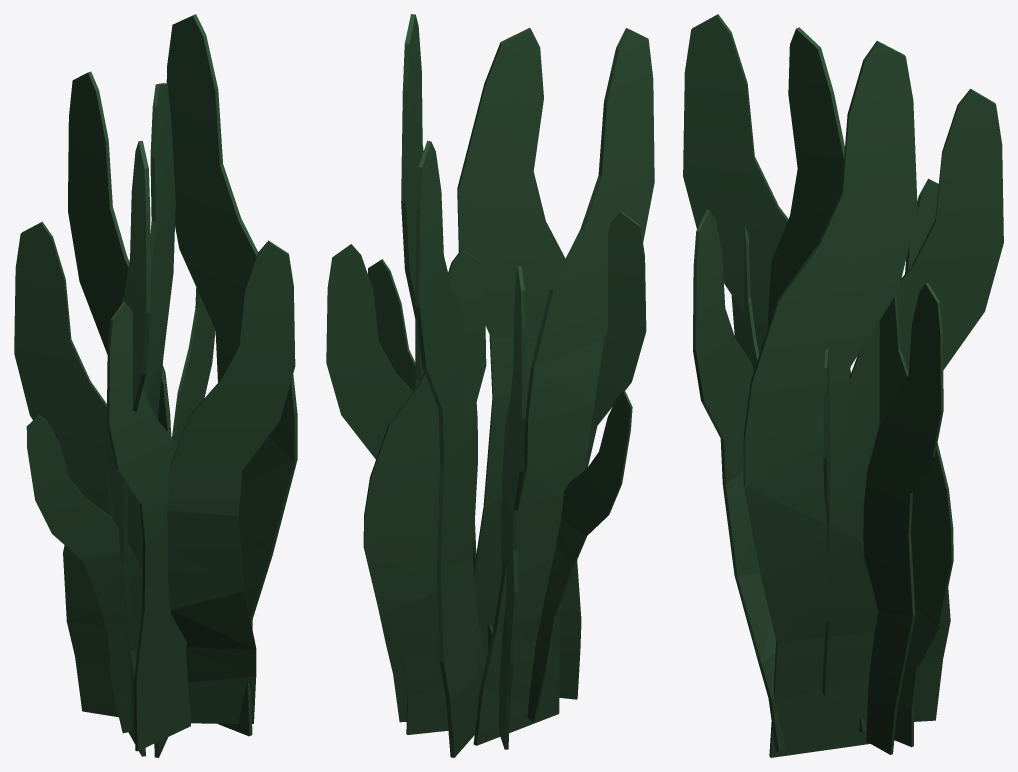
File: seaweed.glb
3 views of the same model, side by side, from view 1: azimuth 30°, elevation 25°; view 2: azimuth 150°, elevation 25°; view 3: azimuth 270°, elevation 25° (orthographic). The views are drawn at different scales.
Parts seen in each view (by area): view 1: seaweed_merged; view 2: seaweed_merged; view 3: seaweed_merged.
Boxes of the visible parts, box(x1,y1,x2,y2) form: seaweed_merged: box(14, 14, 297, 757); seaweed_merged: box(326, 14, 654, 757); seaweed_merged: box(683, 14, 1003, 757).
Bounding box in the file's own units: 0.6418 × 1.64 × 0.6609.
Materials: 4 (4 with a texture image).
